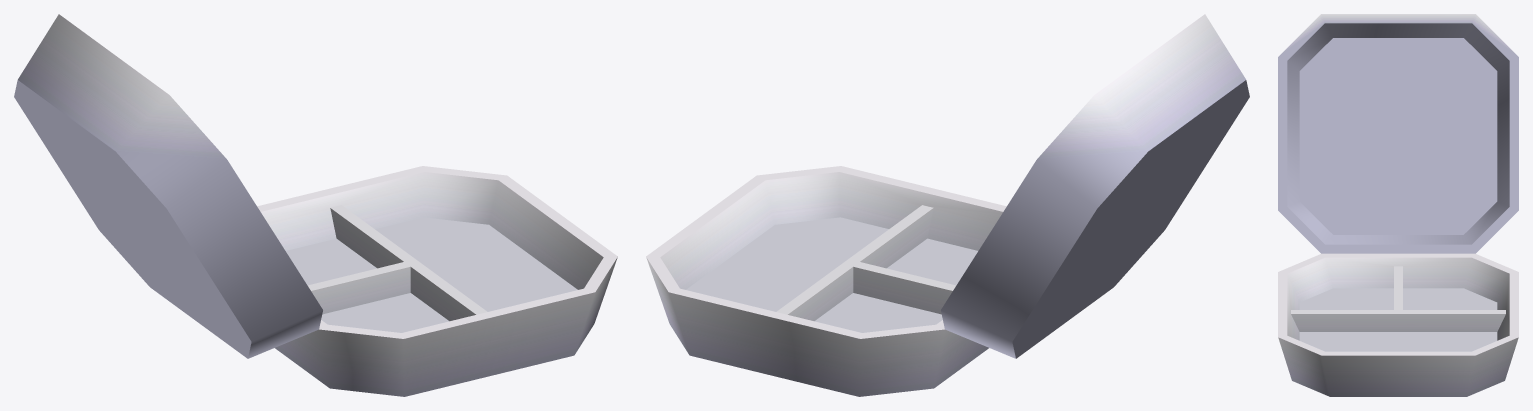
Rendered from styrofoam.glb.
The picture shows the model from 3 angles, left to right: view 1: azimuth 30°, elevation 25°; view 2: azimuth 150°, elevation 25°; view 3: azimuth 270°, elevation 25°; orthographic projection. The views are drawn at different scales.
Parts seen in each view (by area): view 1: styrofoam, lid; view 2: styrofoam, lid; view 3: lid, styrofoam.
Boxes of the visible parts, x1,y1,x2,y2 form: styrofoam: [257, 166, 617, 396]; lid: [14, 14, 322, 358]; styrofoam: [646, 166, 1006, 396]; lid: [941, 14, 1249, 358]; lid: [1278, 14, 1518, 253]; styrofoam: [1278, 253, 1518, 396].
Size of the model in its own units: 1.26 by 0.822 by 0.7589.
Materials: 1 (1 with a texture image).
